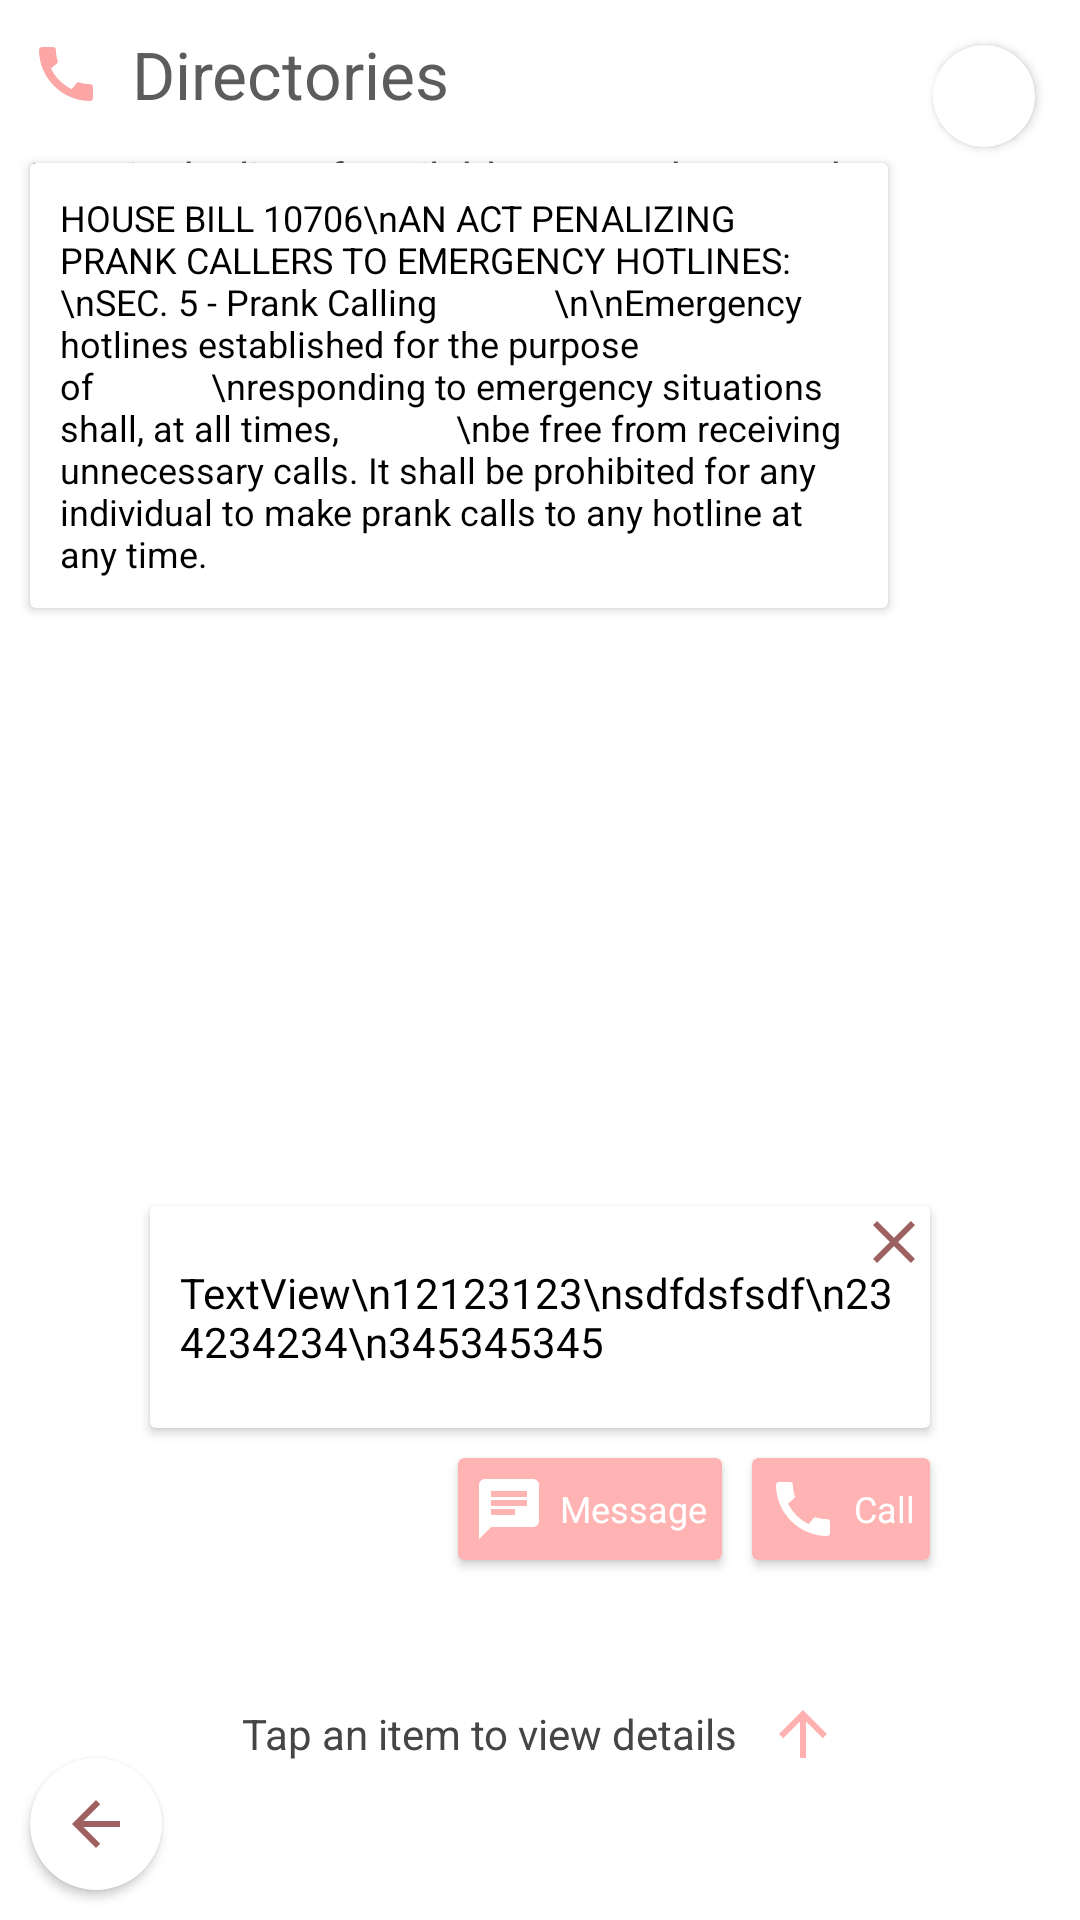

Where icons sit on this 1080x1920 app screen, as {"left": x1, "top": y1, "right": x2, "bottom": y2}:
arrow back: {"left": 72, "top": 1800, "right": 120, "bottom": 1848}
close: {"left": 873, "top": 1221, "right": 915, "bottom": 1263}
